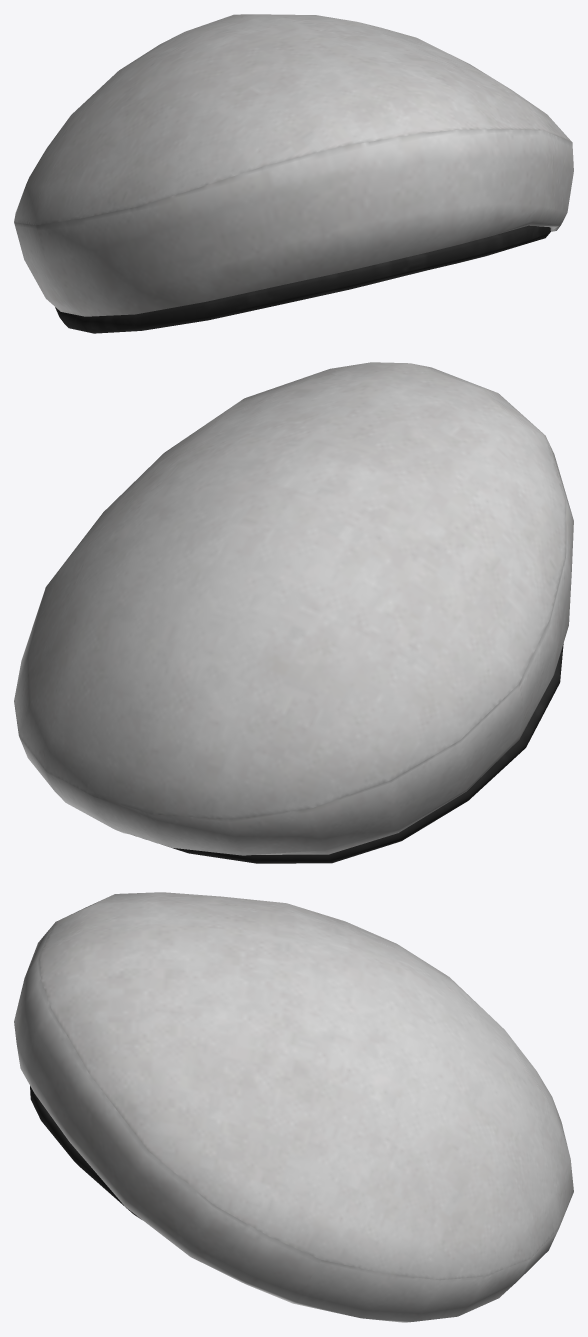
The model's file is p0_hdw0006_00_hdw00.gltf.
3 views of the same model, one above another, from view 1: azimuth 30°, elevation 25°; view 2: azimuth 150°, elevation 25°; view 3: azimuth 270°, elevation 25° (orthographic). The views are drawn at different scales.
Visible parts, largest first — view 1: hdw00_cap_mesh_shape:cap; view 2: hdw00_cap_mesh_shape:cap; view 3: hdw00_cap_mesh_shape:cap.
Boxes of the visible parts, x1,y1,x2,y2 form: hdw00_cap_mesh_shape:cap: (14, 14, 573, 333); hdw00_cap_mesh_shape:cap: (14, 362, 573, 863); hdw00_cap_mesh_shape:cap: (14, 892, 573, 1322).
Size of what is drawn, in the model's own units: 0.3219 by 0.2123 by 0.3333.
Materials: 1 (1 with a texture image).
